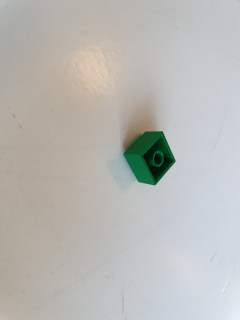2x2 green: (122, 128, 180, 186)
